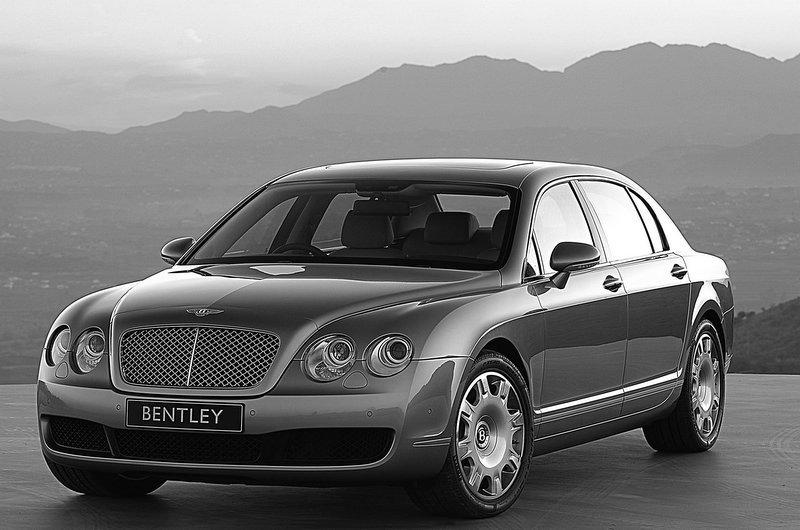car: (33, 156, 736, 524)
